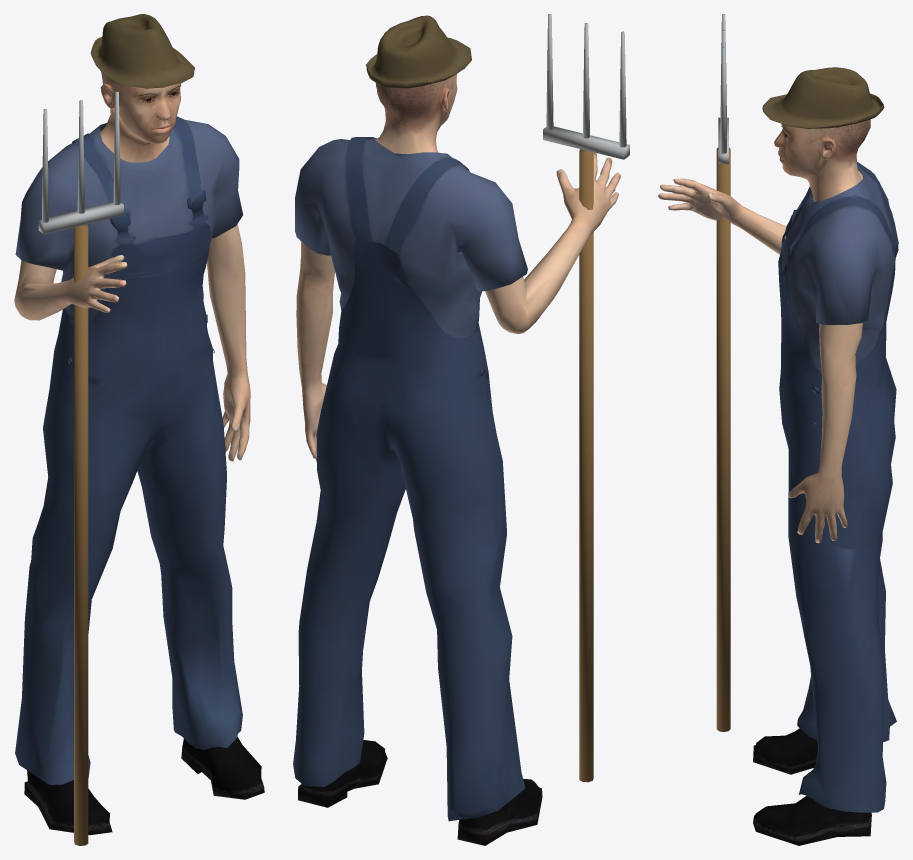
The model's file is mq-farmer.glb.
3 views of the same model, side by side, from view 1: azimuth 30°, elevation 25°; view 2: azimuth 150°, elevation 25°; view 3: azimuth 270°, elevation 25° (orthographic). The views are drawn at different scales.
Visible parts, largest first — view 1: MQ_farmer; view 2: MQ_farmer; view 3: MQ_farmer.
Boxes of the visible parts, <box> form: MQ_farmer: <box>14,14,264,845</box>; MQ_farmer: <box>293,14,629,845</box>; MQ_farmer: <box>658,14,898,845</box>.
Size of the model in its own units: 0.6589 by 1.86 by 0.5564.
Materials: 1 (1 with a texture image).
